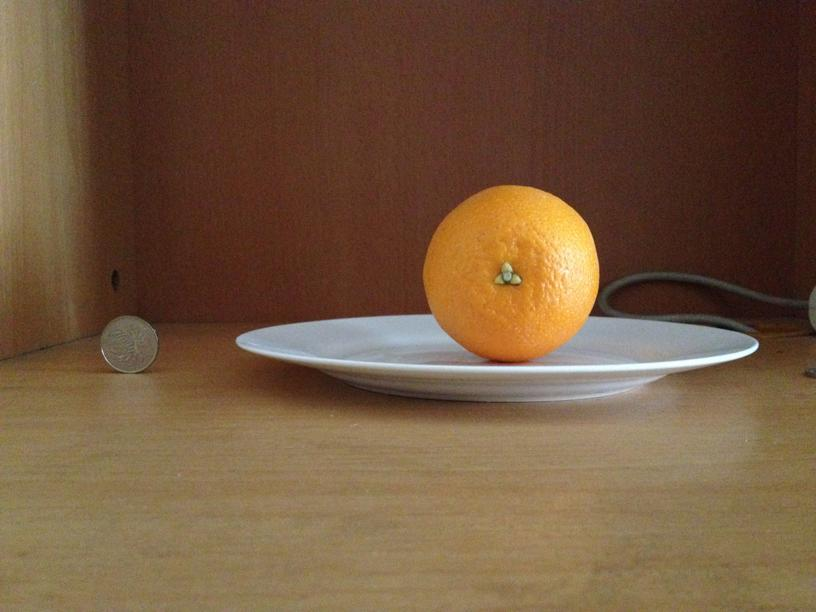coin: (100, 316, 158, 375)
orange: (421, 182, 600, 360)
